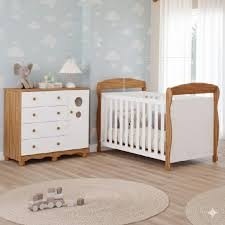crib: (97, 79, 218, 168)
